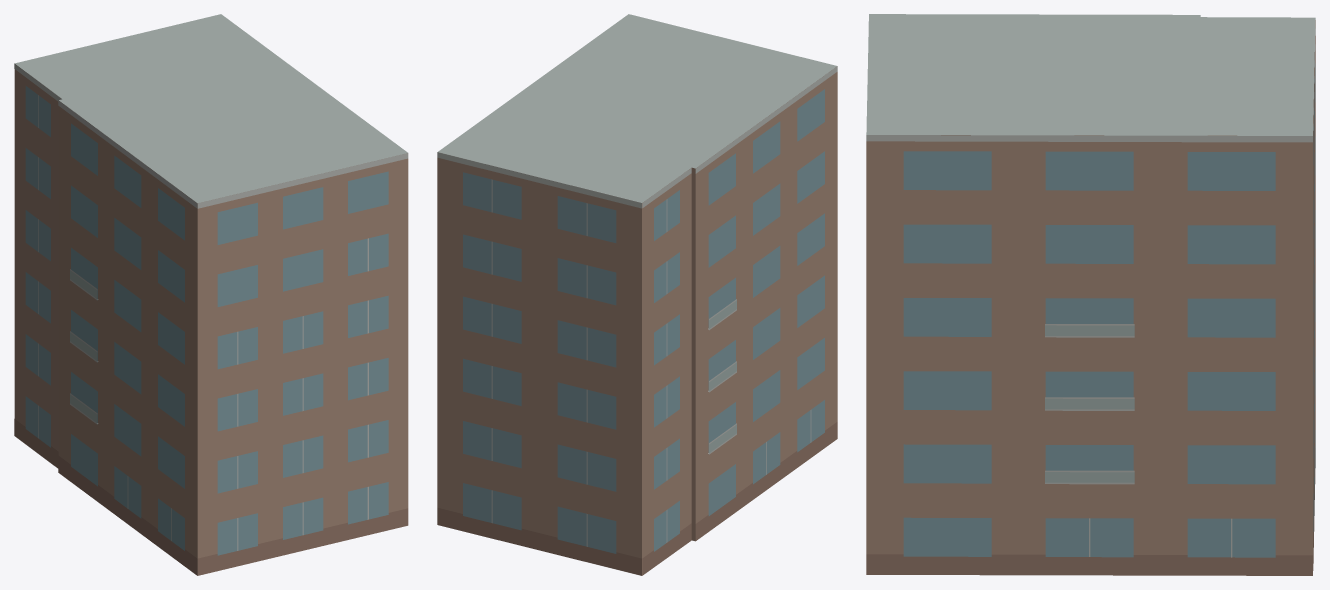
The model's file is survey-upis-32689317.glb.
The picture shows the model from 3 angles, left to right: view 1: azimuth 30°, elevation 25°; view 2: azimuth 150°, elevation 25°; view 3: azimuth 270°, elevation 25°; orthographic projection. The views are drawn at different scales.
Parts seen in each view (by area): view 1: survey-upis-32689317.tmp; view 2: survey-upis-32689317.tmp; view 3: survey-upis-32689317.tmp.
Part boxes in pixels (x1,y1,x2,y2): survey-upis-32689317.tmp: (14, 14, 408, 575); survey-upis-32689317.tmp: (437, 14, 837, 575); survey-upis-32689317.tmp: (866, 14, 1315, 575).
Bounding box in the file's own units: 9.82 × 16.5 × 15.28.
